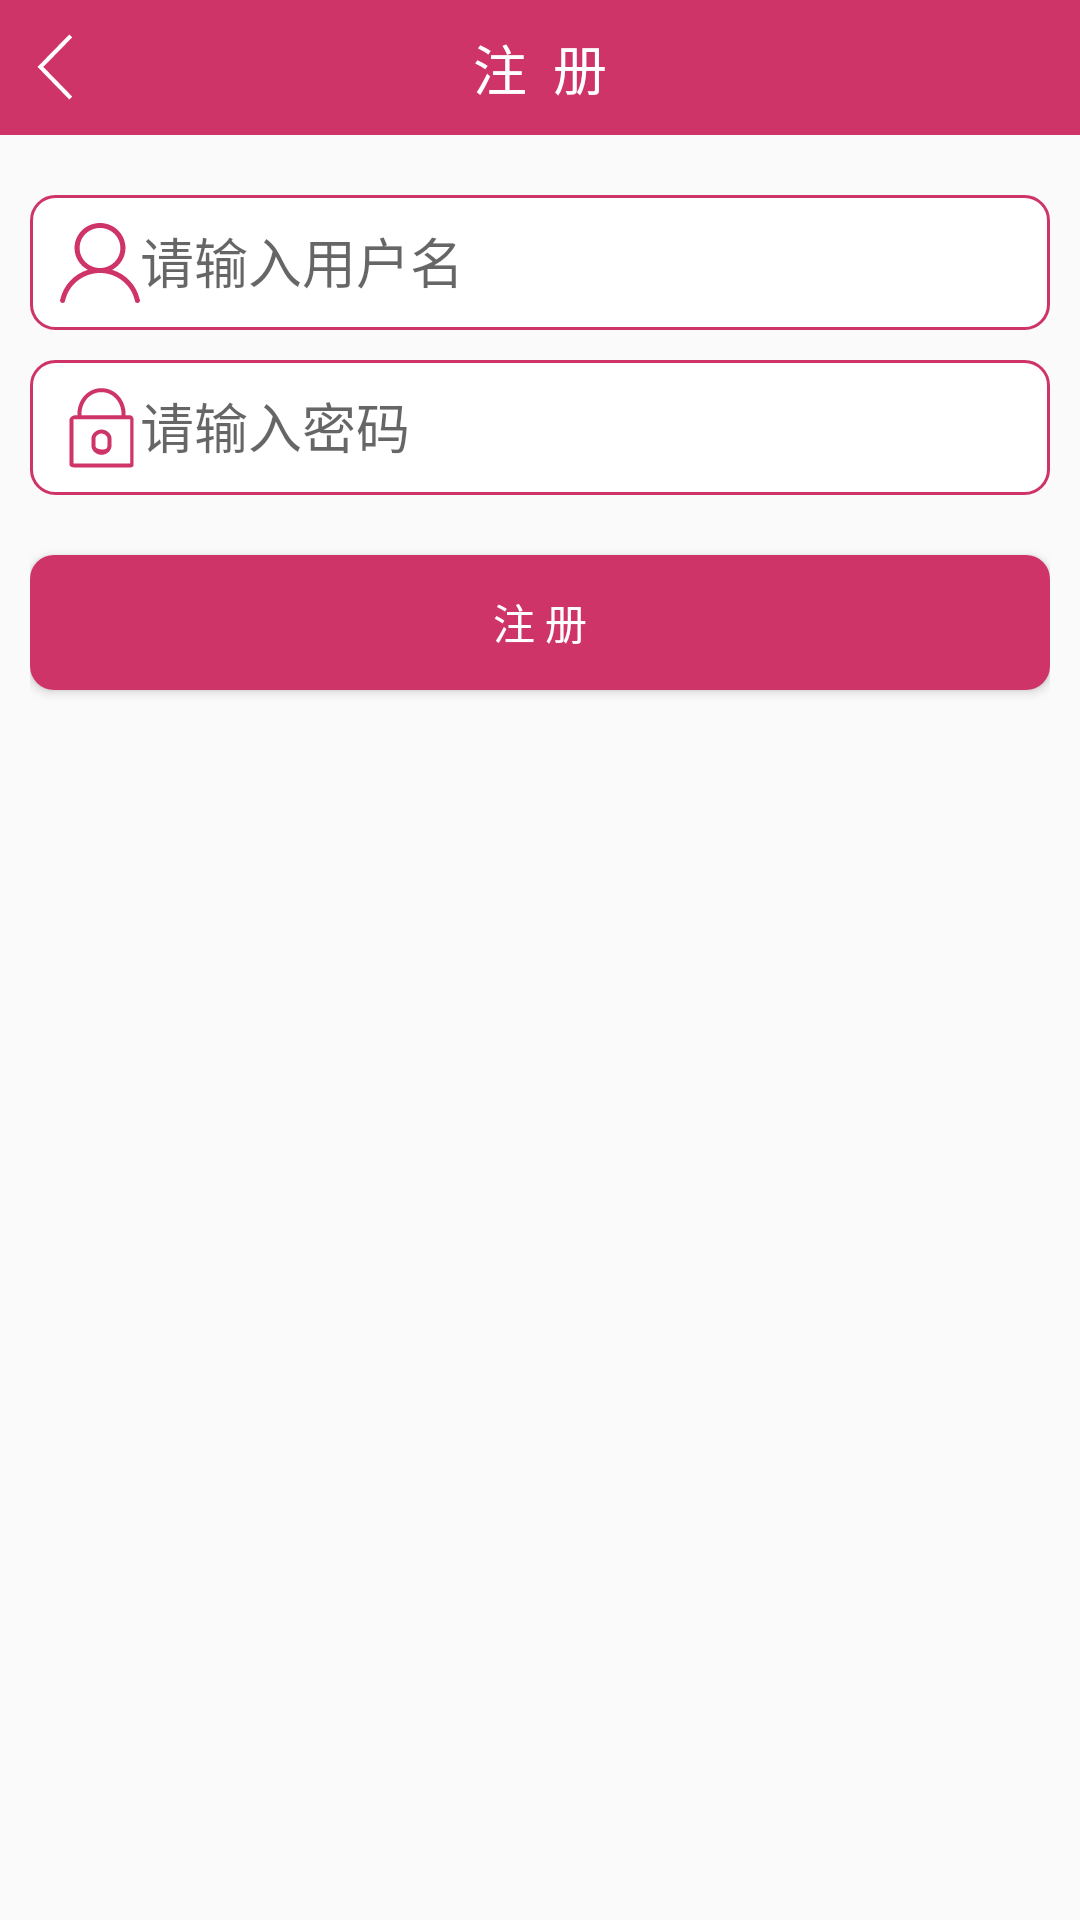

Where to tap for icons on this 1080×1920 app screen, as (x=x, y=y):
back: (x=54, y=67)
